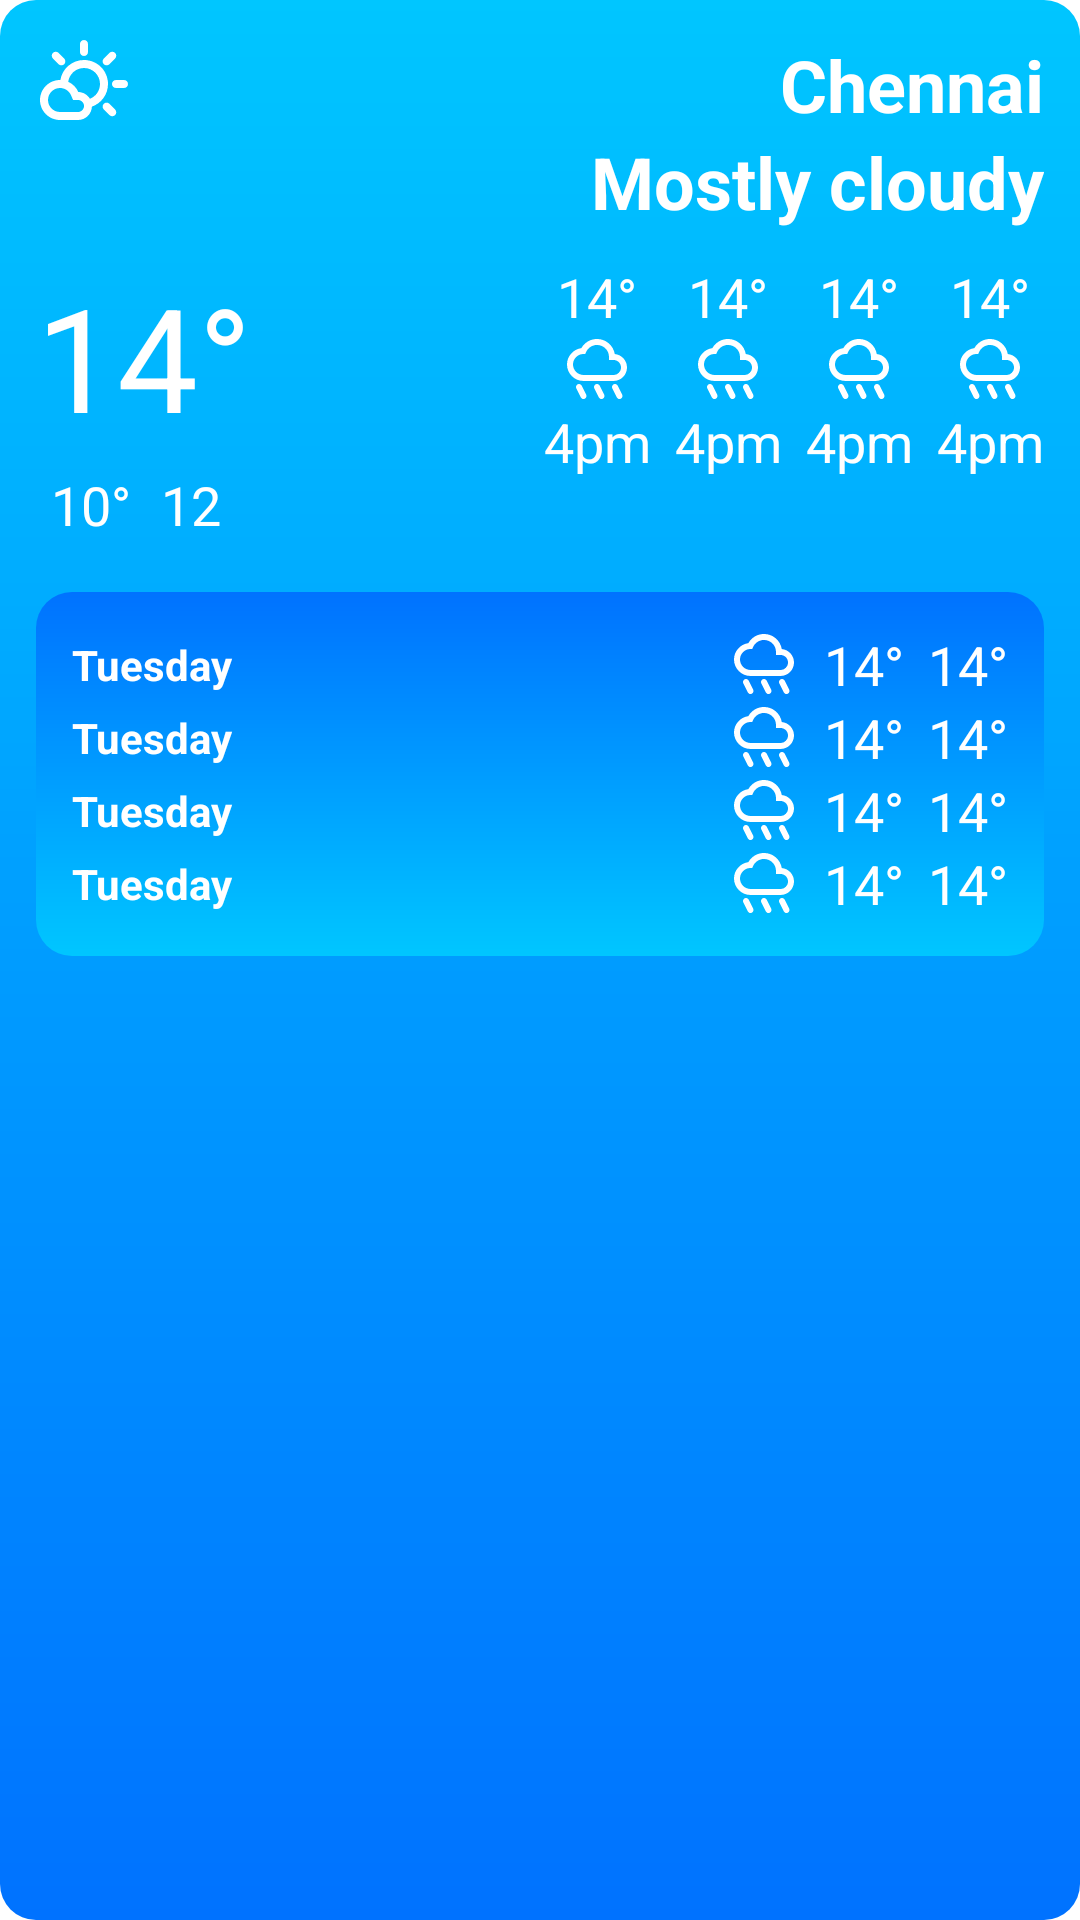

Where to tap for icons on this 1080px x 1920px app screen, as point (x, y):
Rainy Icon: point (597, 369), point (728, 369), point (859, 369), point (990, 369), point (764, 664), point (764, 737), point (764, 810), point (764, 883)
Widget Icon: point (84, 80)
